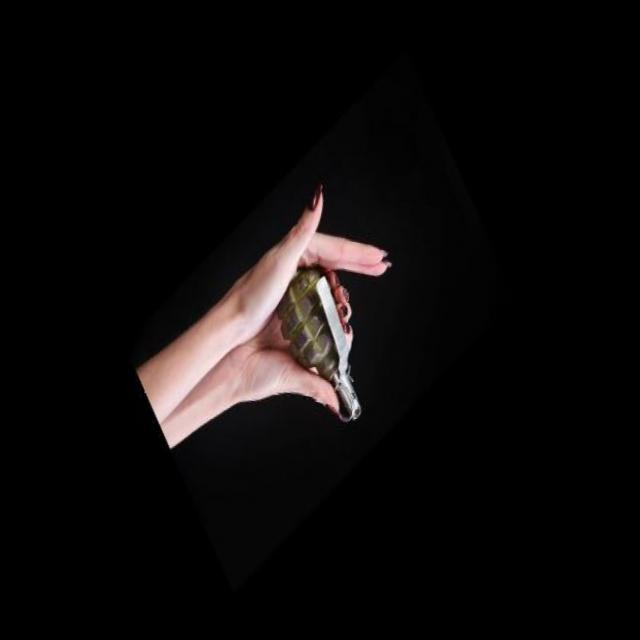grenade: (244, 252, 386, 432)
